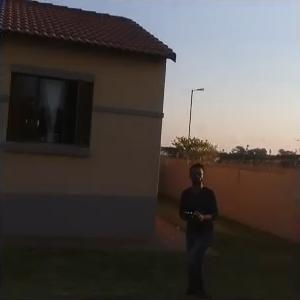follow: (173, 157, 222, 298)
